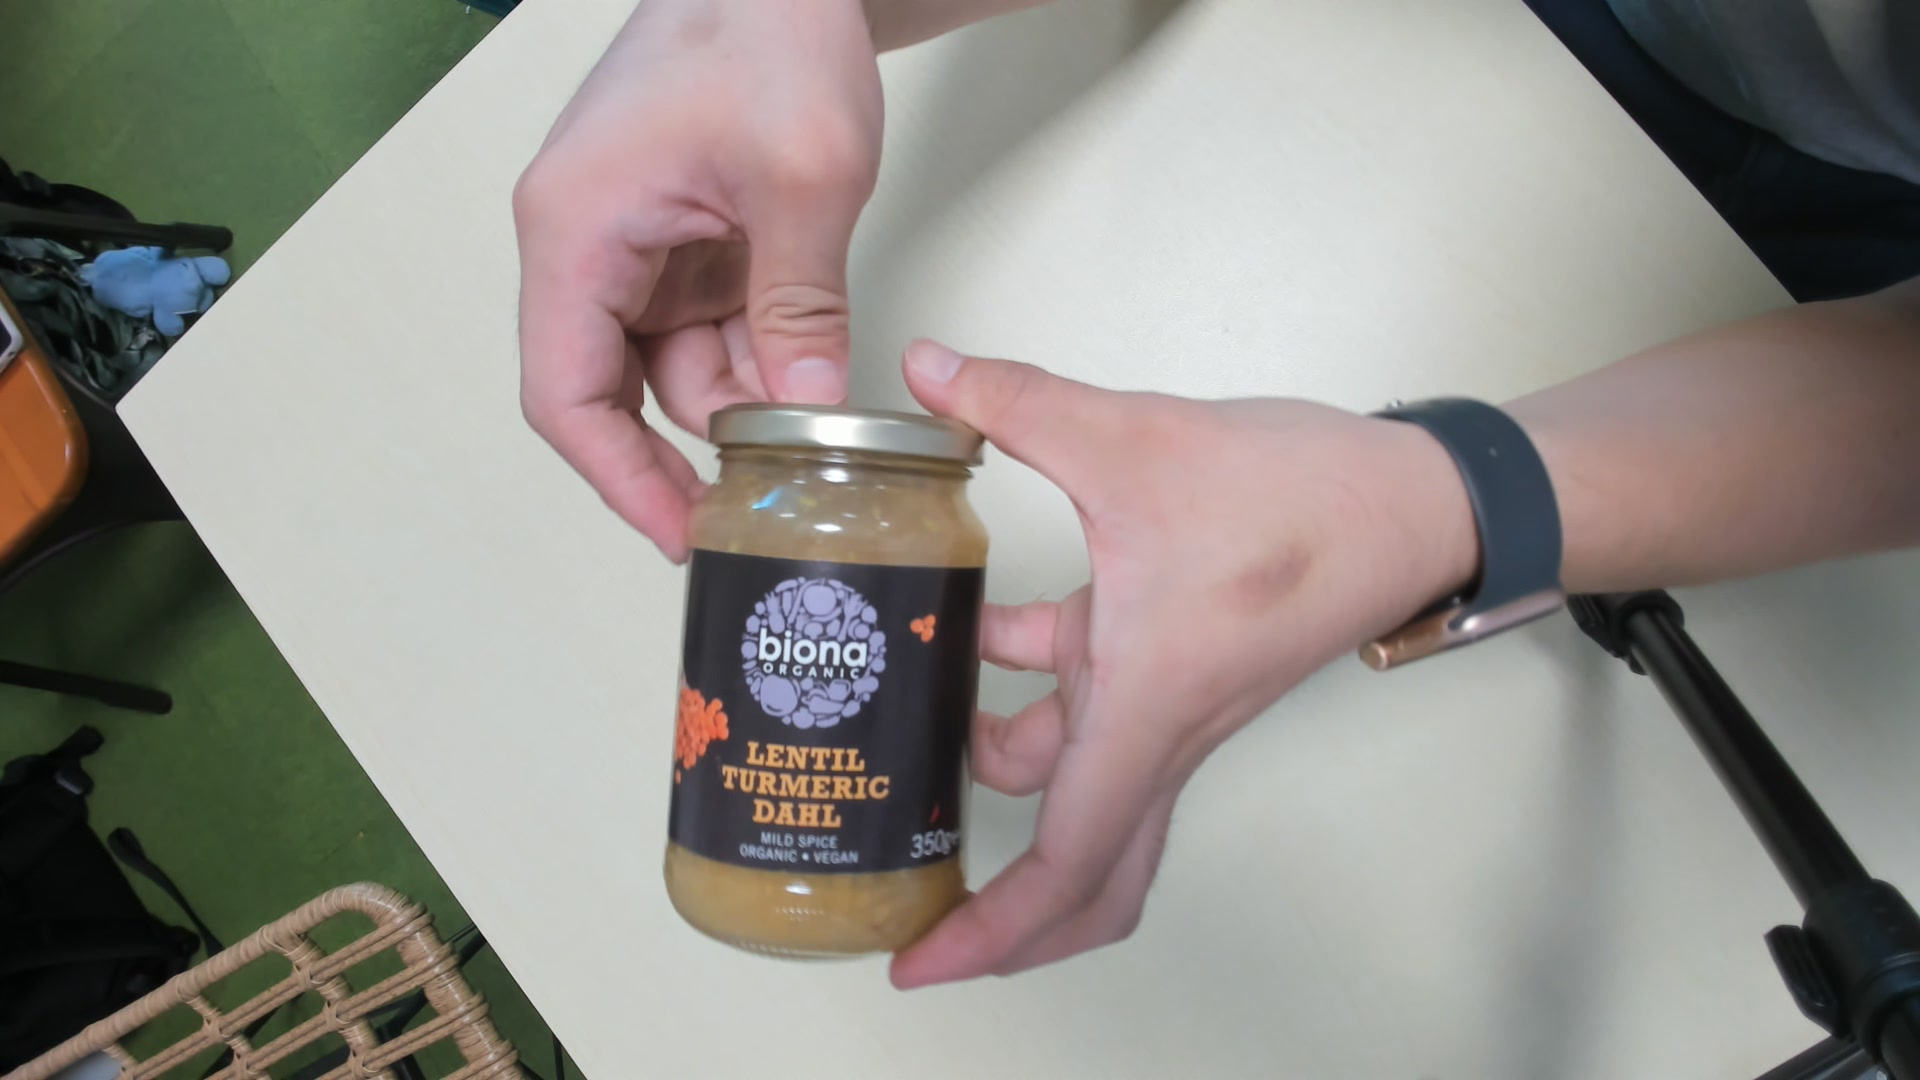OtherSauceDressing_300-399g_NonHalal_NonHealthy: (673, 401, 992, 960)
